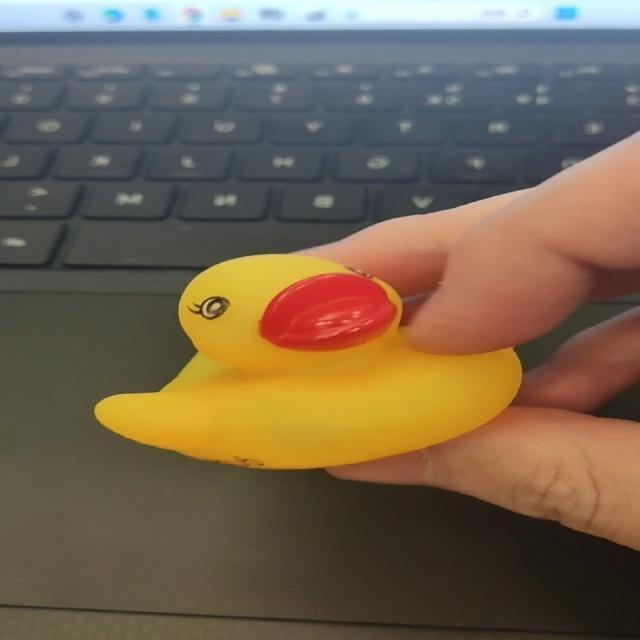rubber-duck: (94, 253, 519, 467)
